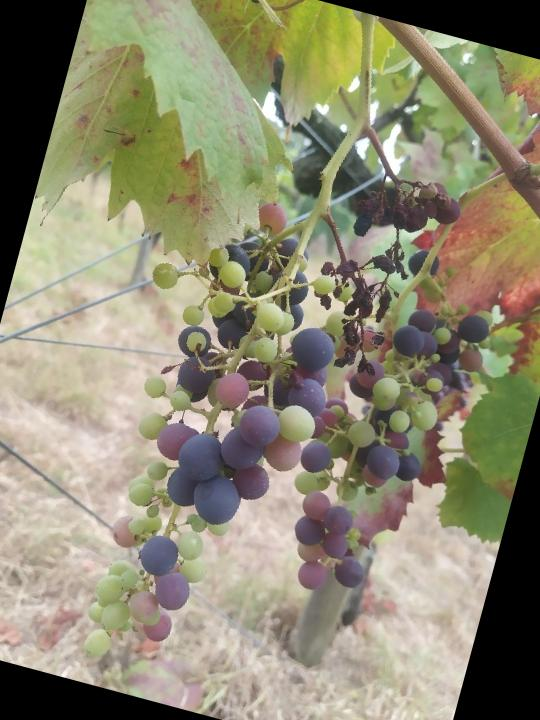grape: (47, 177, 412, 712), (327, 163, 469, 336)
